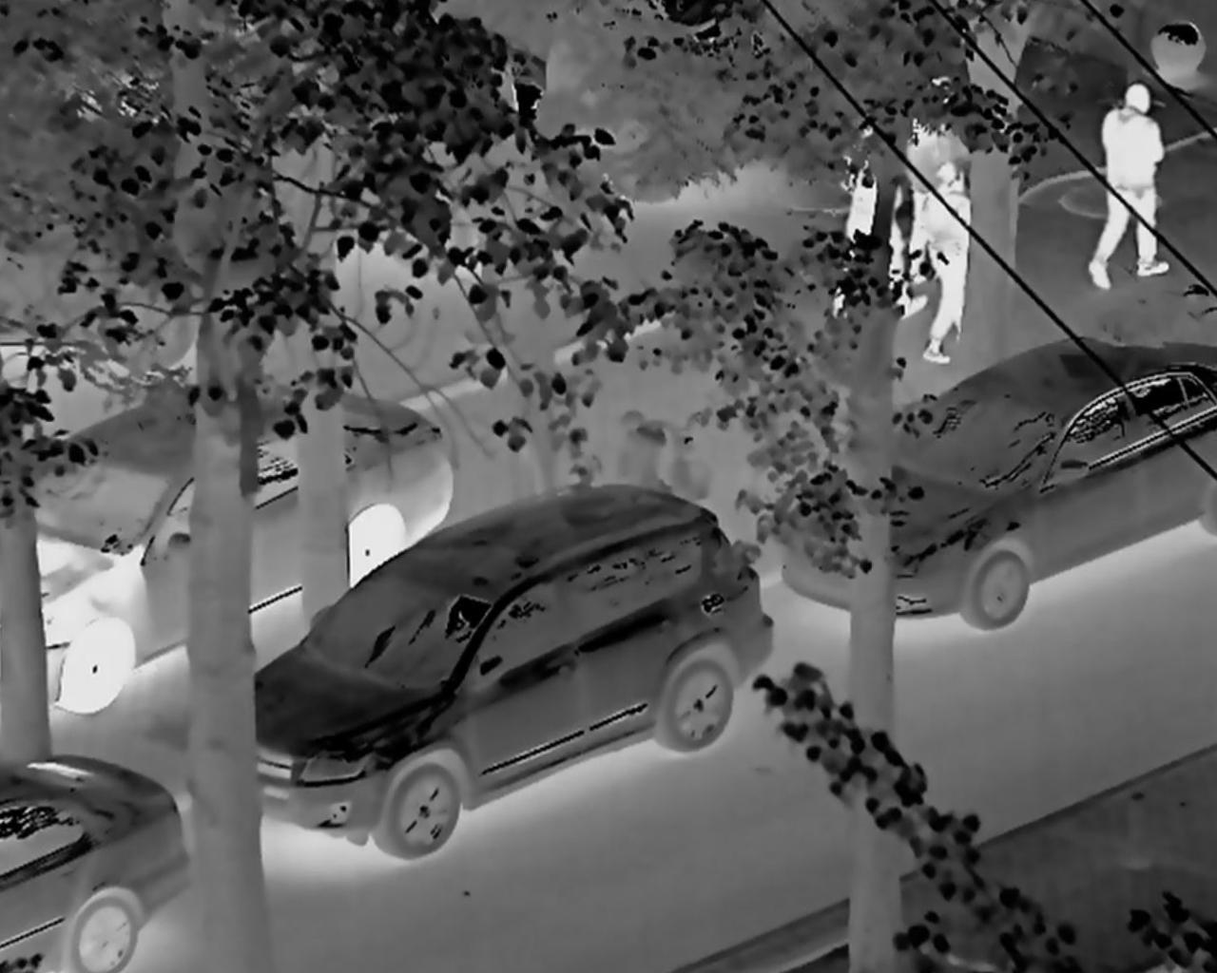person: (1082, 70, 1166, 296), (838, 89, 910, 329), (885, 53, 965, 242), (916, 164, 976, 363)
